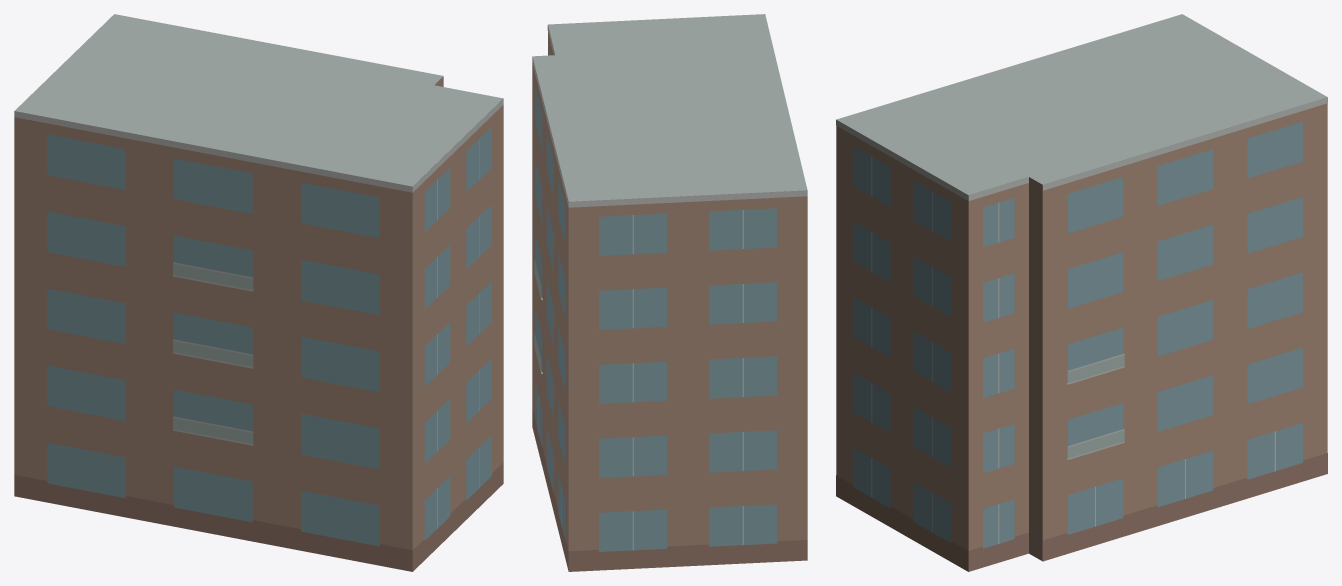
File: survey-upis-32759087.glb
3 renders of one model, left to right at view 1: azimuth 30°, elevation 25°; view 2: azimuth 150°, elevation 25°; view 3: azimuth 270°, elevation 25°, orthographic. The views are drawn at different scales.
Visible parts, largest first — view 1: survey-upis-32759087.tmp; view 2: survey-upis-32759087.tmp; view 3: survey-upis-32759087.tmp.
Boxes of the visible parts, x1,y1,x2,y2 form: survey-upis-32759087.tmp: [14, 14, 503, 571]; survey-upis-32759087.tmp: [532, 14, 807, 571]; survey-upis-32759087.tmp: [836, 14, 1327, 571].
Size of the model in its own units: 15.74 by 15.25 by 18.05.
